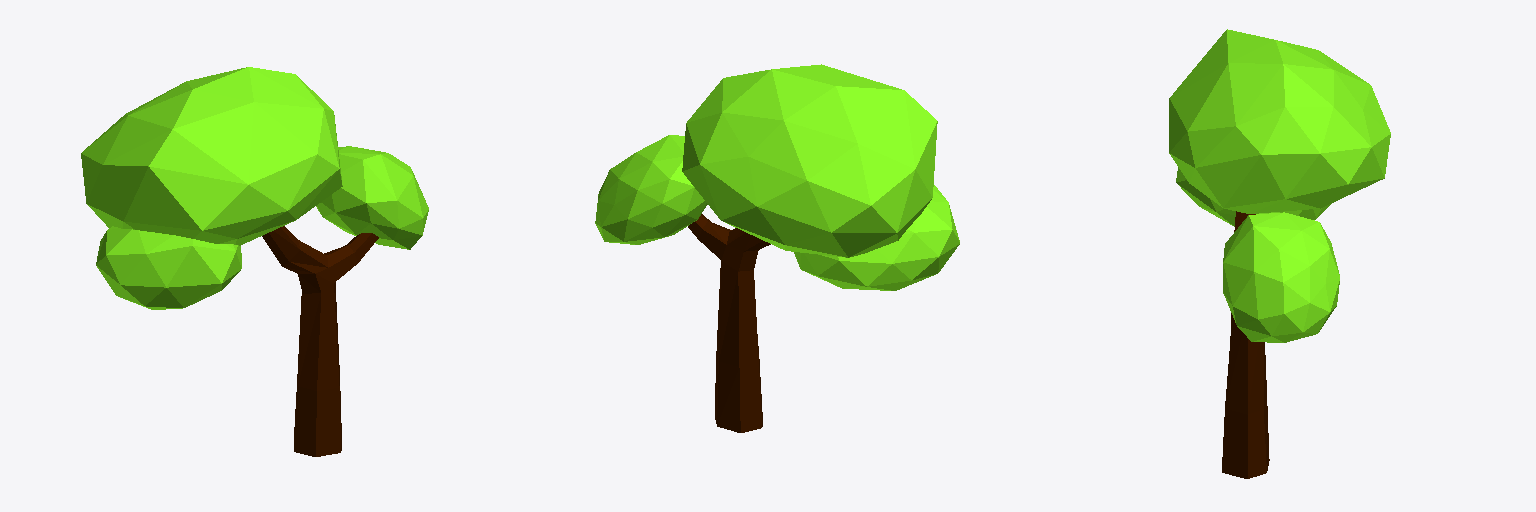
File: tree1.obj
3 views of the same model, side by side, from view 1: azimuth 30°, elevation 25°; view 2: azimuth 150°, elevation 25°; view 3: azimuth 270°, elevation 25° (orthographic).
Parts seen in each view (by area): view 1: Tree2; view 2: Tree2; view 3: Tree2.
Boxes of the visible parts, x1=… form: Tree2: x1=81, y1=67, x2=428, y2=456; Tree2: x1=595, y1=64, x2=959, y2=432; Tree2: x1=1169, y1=29, x2=1390, y2=478.
Size of the model in its own units: 102 by 110 by 58.52.